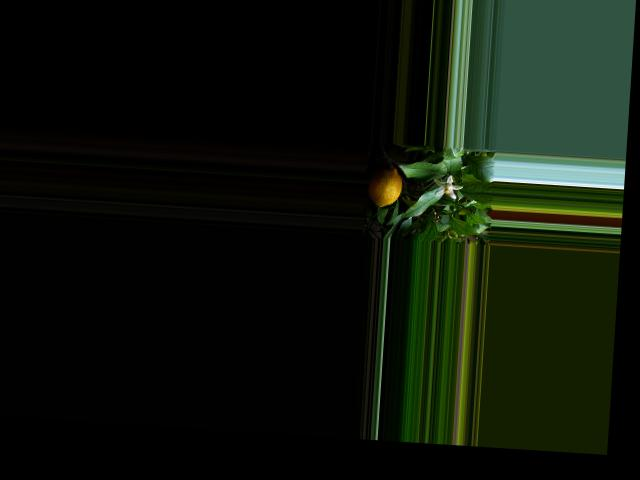lemon: (366, 163, 408, 210)
